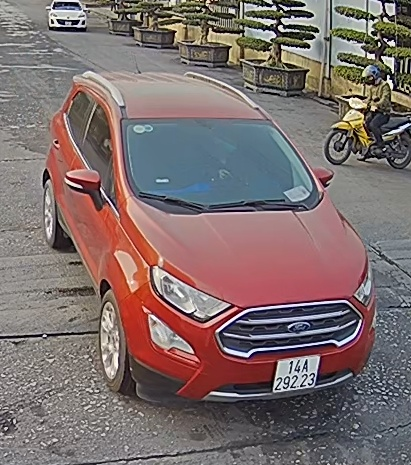vehicle plate: (272, 356, 318, 391)
